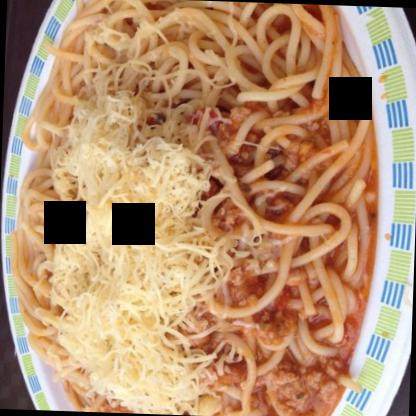pasta: (8, 0, 378, 415)
